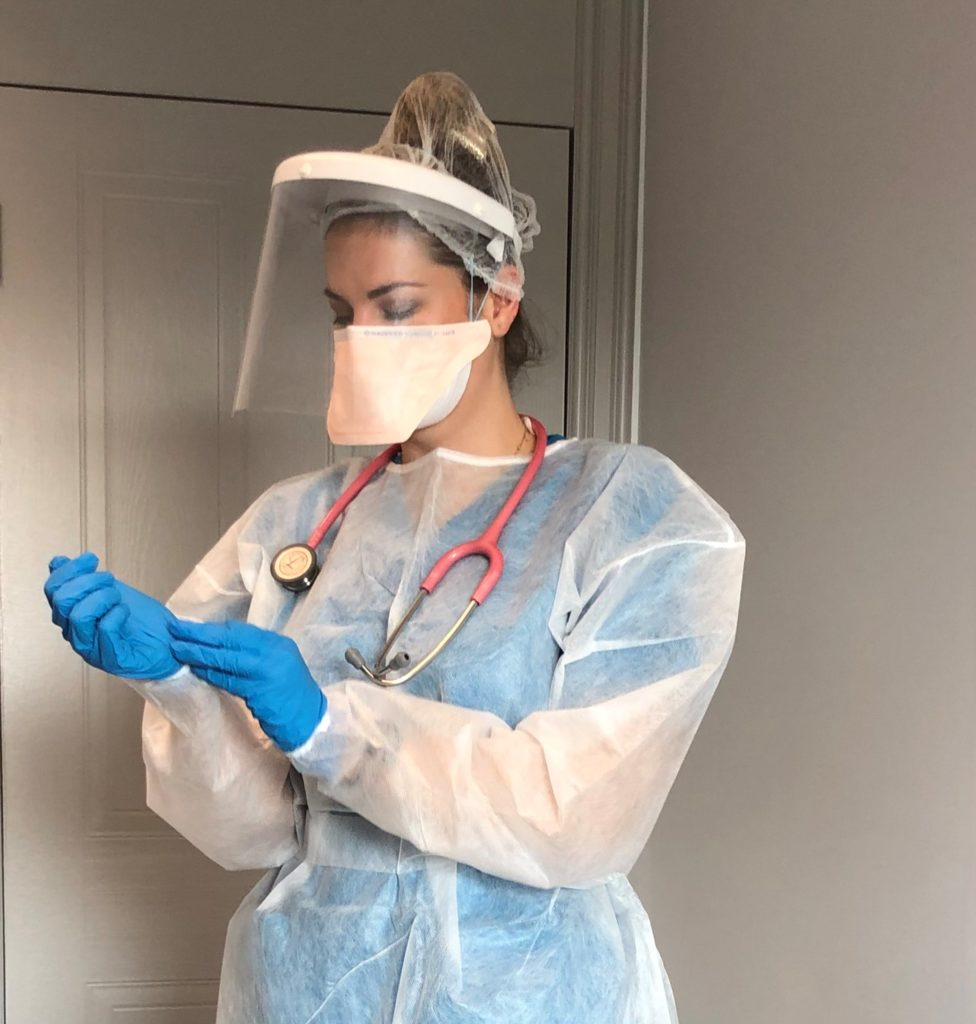Coverall: (187, 445, 706, 1023)
Gloves: (161, 610, 356, 760), (42, 552, 181, 684)
with_mask: (322, 283, 466, 446)
